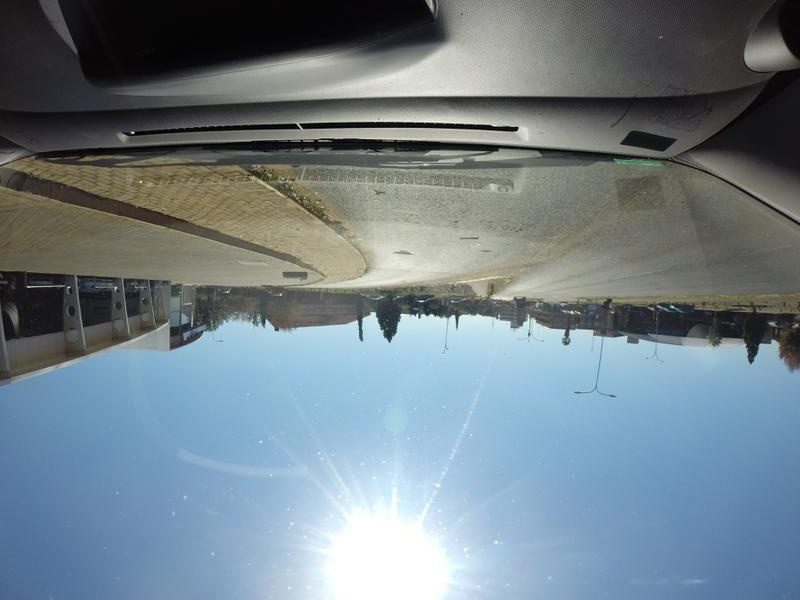pothole: (455, 235, 484, 245), (370, 187, 396, 198), (393, 246, 417, 257)
